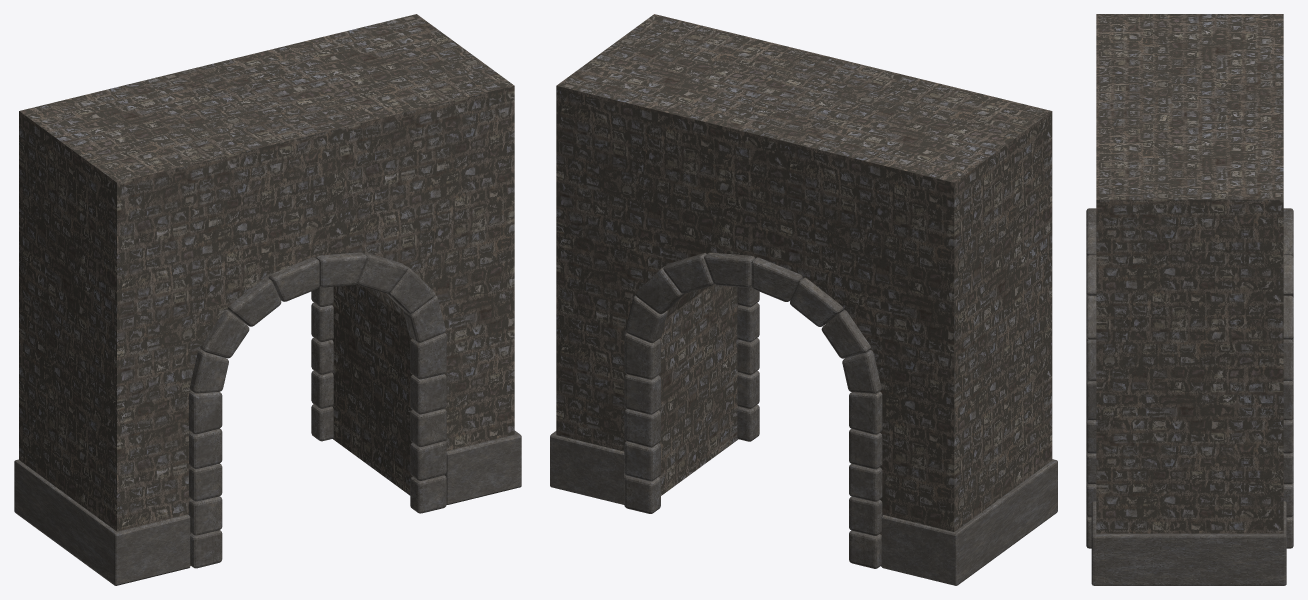
The model's file is SmallGate NoPortcullis.fbx.
The picture shows the model from 3 angles, left to right: view 1: azimuth 30°, elevation 25°; view 2: azimuth 150°, elevation 25°; view 3: azimuth 270°, elevation 25°; orthographic projection. The views are drawn at different scales.
Visible parts, largest first — view 1: Small Gate without Portcullis; view 2: Small Gate without Portcullis; view 3: Small Gate without Portcullis.
Boxes of the visible parts, x1=… form: Small Gate without Portcullis: x1=14, y1=14, x2=521, y2=585; Small Gate without Portcullis: x1=550, y1=14, x2=1057, y2=585; Small Gate without Portcullis: x1=1086, y1=14, x2=1293, y2=585.
Bounding box in the file's own units: 648 × 611 × 299.
